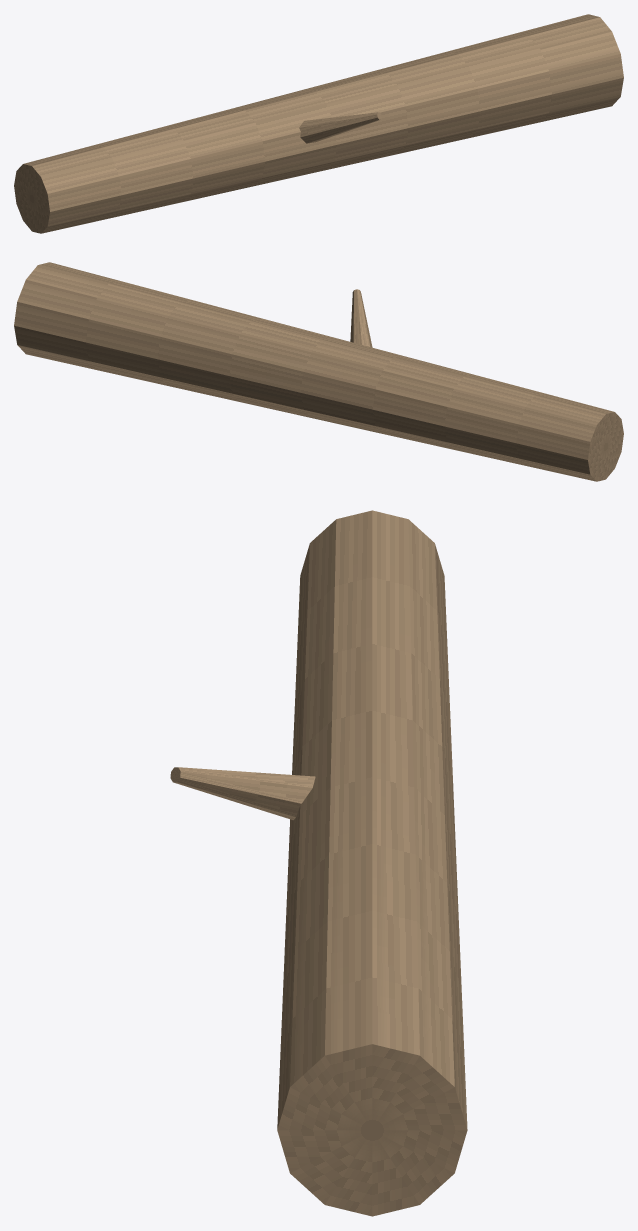
The model's file is cave-and-crystal-networks-fallen-log-crossing-b49f95f1.glb.
3 views of the same model, one above another, from view 1: azimuth 30°, elevation 25°; view 2: azimuth 150°, elevation 25°; view 3: azimuth 270°, elevation 25° (orthographic). The views are drawn at different scales.
Parts seen in each view (by area): view 1: fallen-log-crossing; view 2: fallen-log-crossing; view 3: fallen-log-crossing.
Part boxes in pixels (bbox=[...]): fallen-log-crossing: bbox=[14, 14, 623, 233]; fallen-log-crossing: bbox=[14, 262, 623, 481]; fallen-log-crossing: bbox=[170, 510, 467, 1216].
Bounding box in the file's own units: 4 × 0.623 × 0.9057.
1 material, 1 textured.
